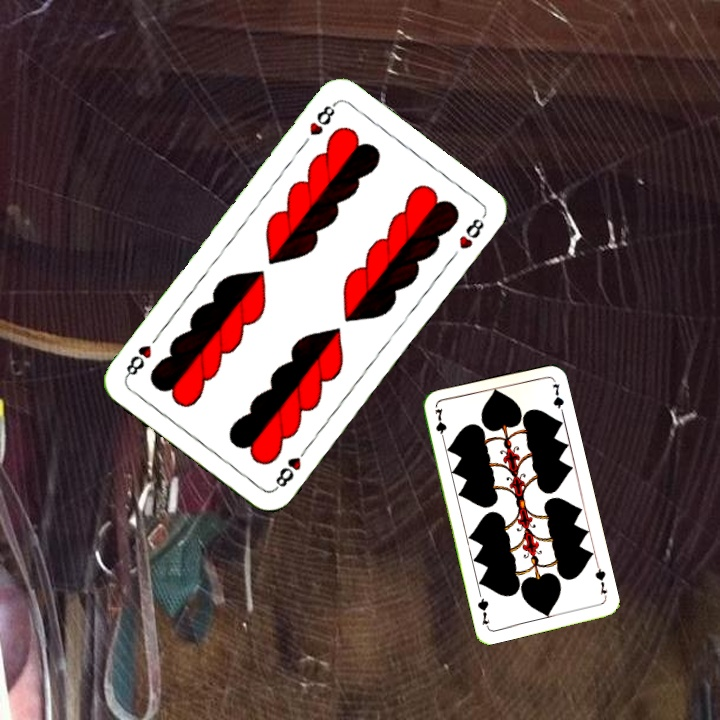G7: (431, 405, 449, 445), (591, 561, 610, 597)
H8: (270, 442, 311, 493), (305, 98, 339, 139)
